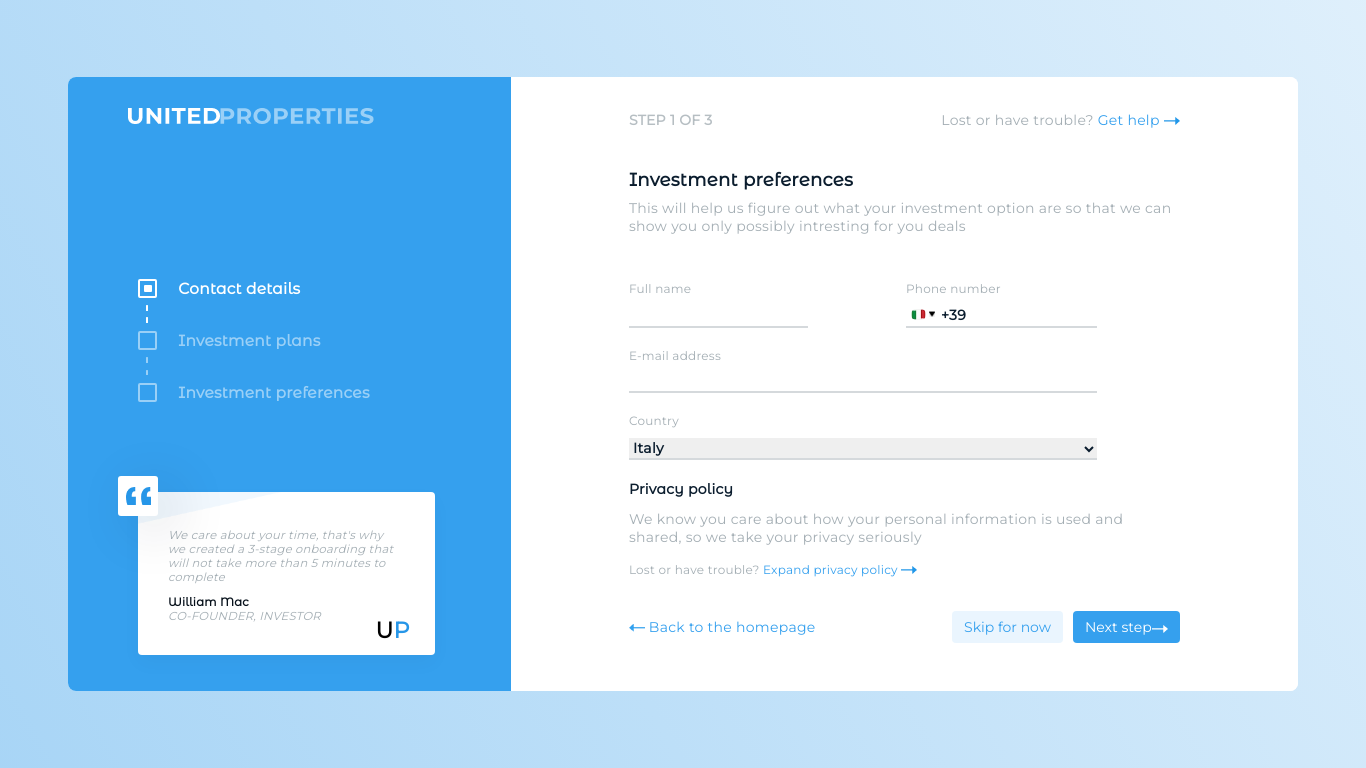
buttons test › Next button
Type "dario" into the field with id "name" at [719, 317], box [629, 306, 808, 328]
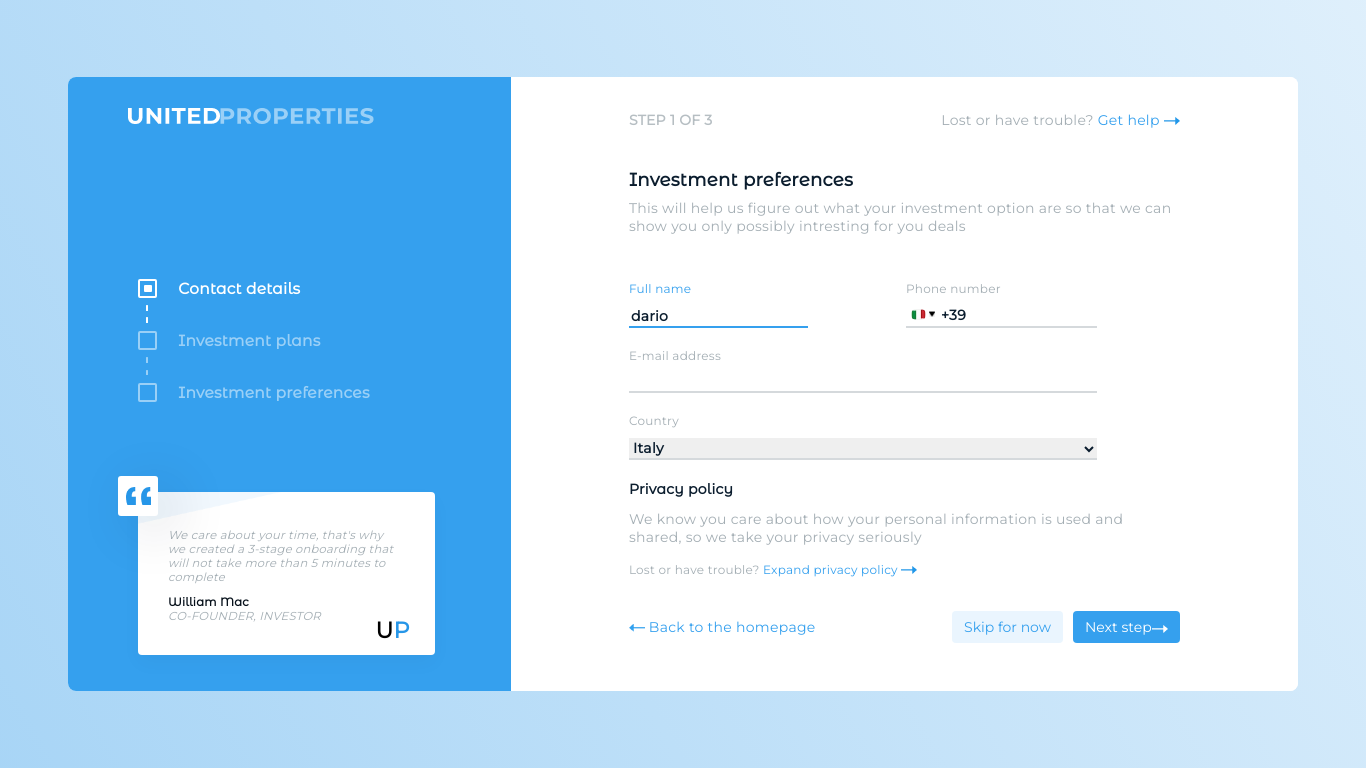
Type "1234567" into the field with id "number" at [1034, 315], box [970, 306, 1097, 324]
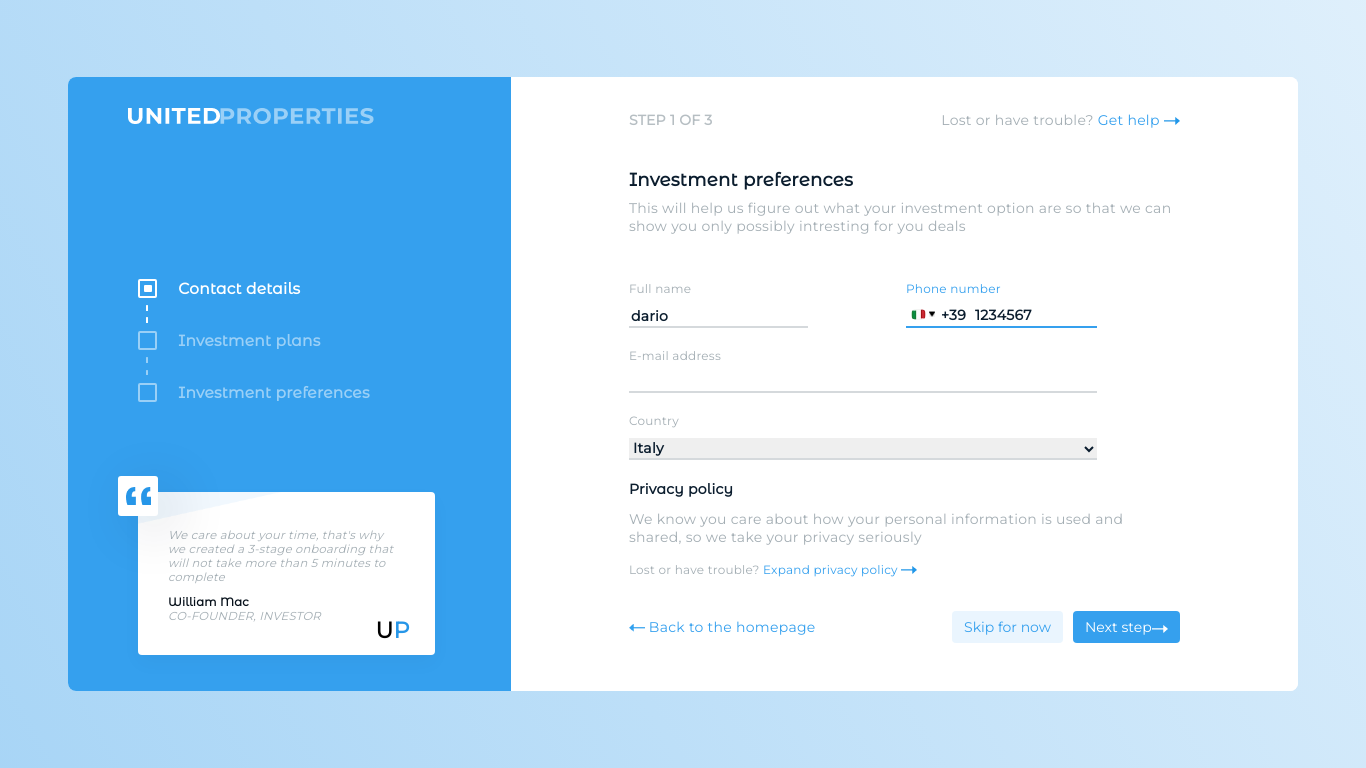
Type "test@test.com" into the field with id "email" at [863, 383], box [629, 373, 1097, 393]
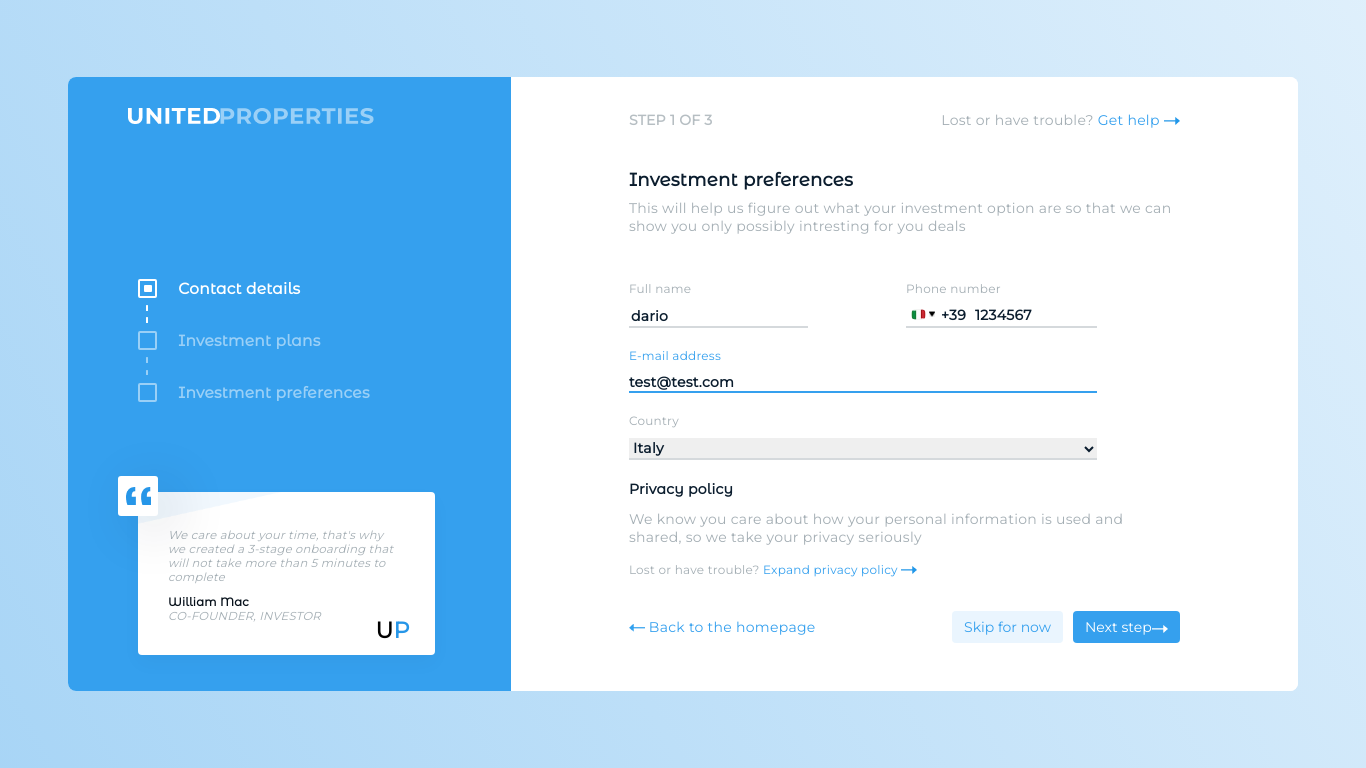
Click the button "Next step" at [1127, 627], box [1073, 611, 1180, 643]
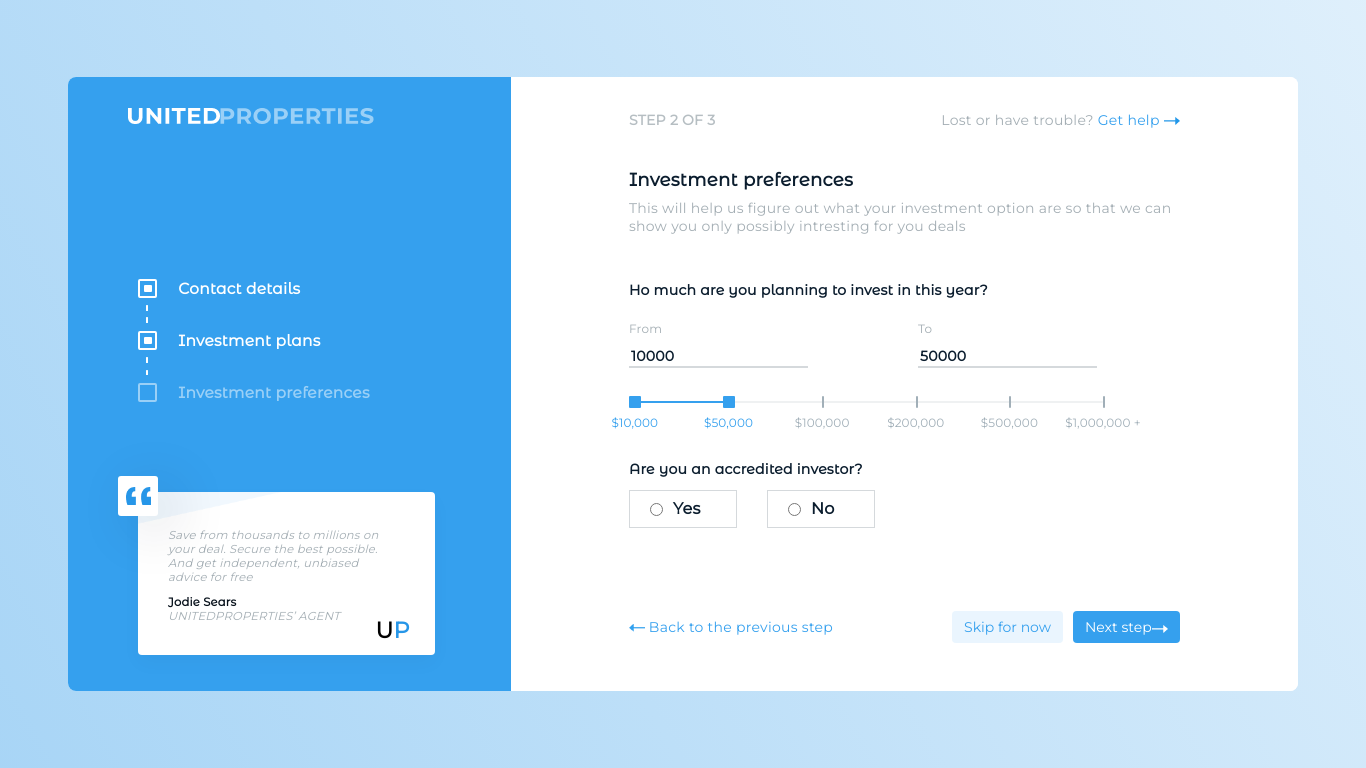
Expected: the field with id "minMoney" is shown, [629, 346, 808, 368]
Click the radio button labelled "No" at [795, 510], box [788, 503, 801, 516]
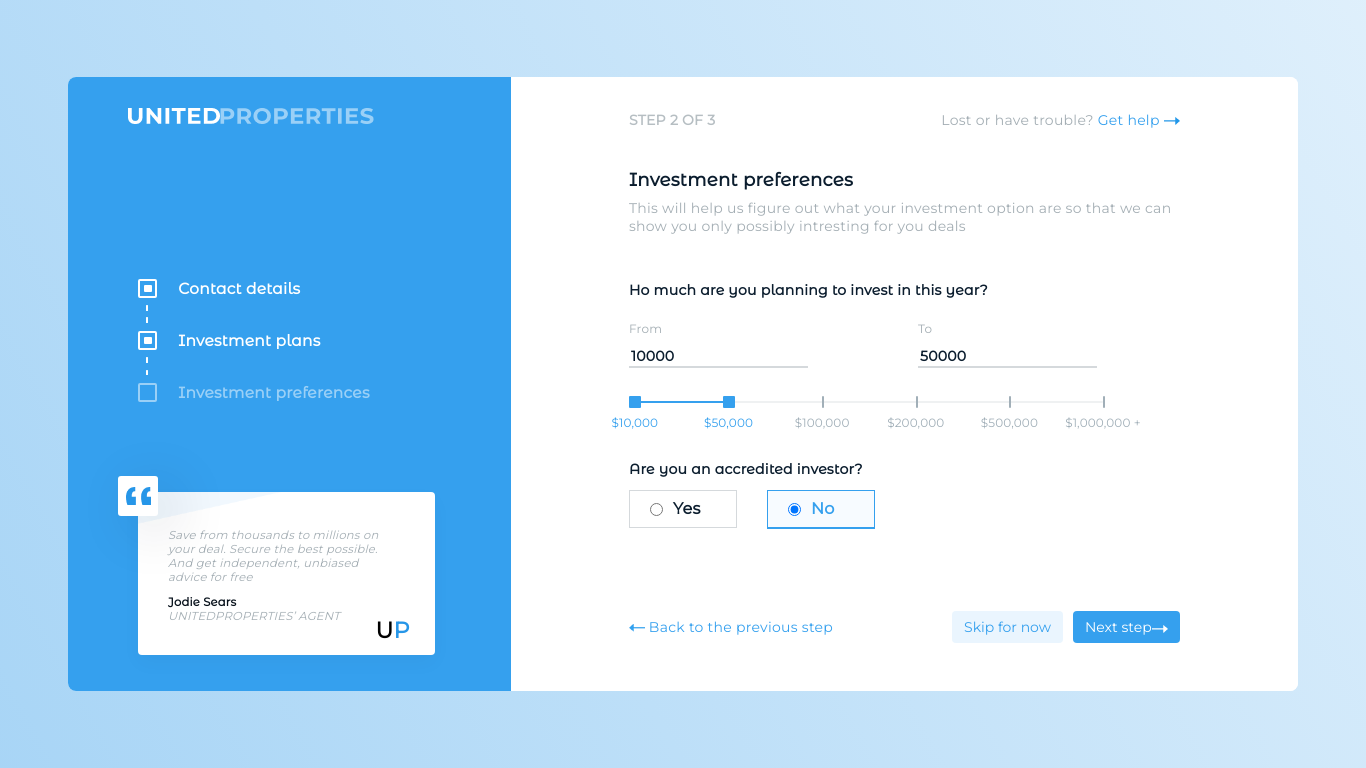
Click the button "Next step" at [1127, 627], box [1073, 611, 1180, 643]
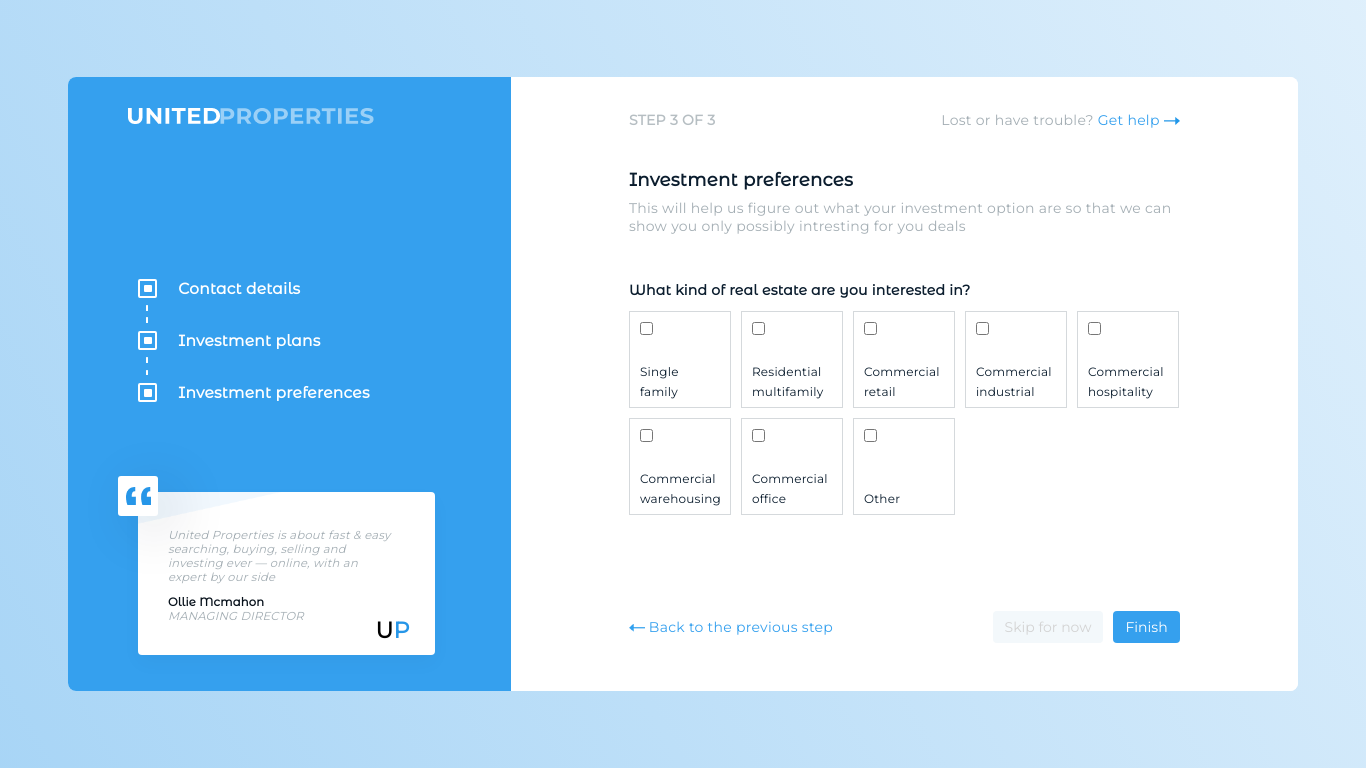
Expected: the button "Finish" is shown, [1114, 611, 1180, 643]
